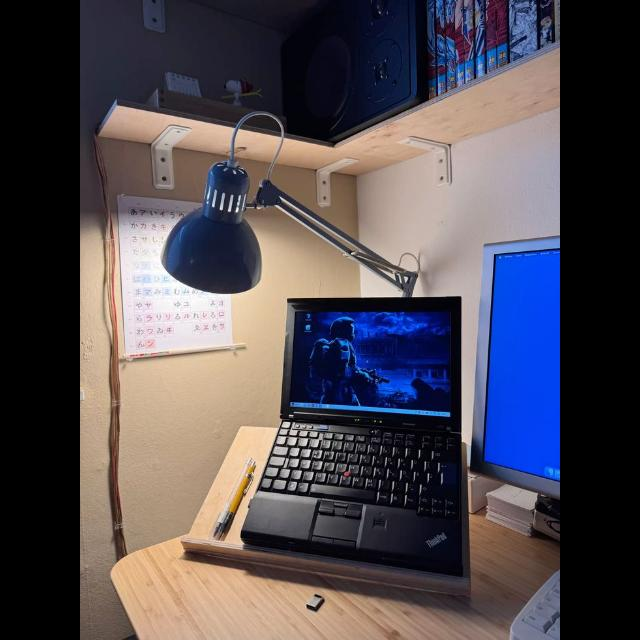laptop: (240, 298, 466, 577)
